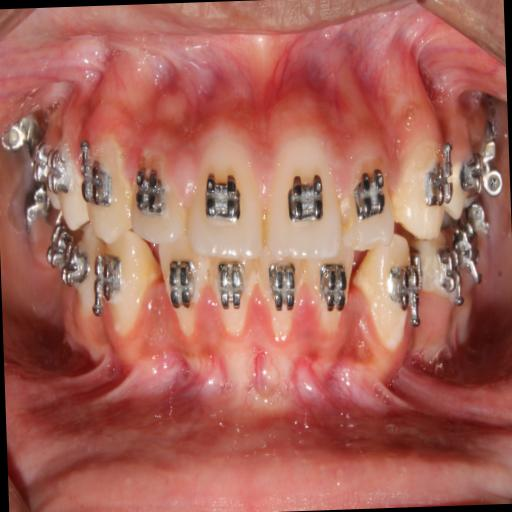correct_brace: (200, 165, 244, 228), (282, 168, 328, 225), (418, 152, 458, 208), (129, 162, 168, 218), (81, 155, 115, 211), (350, 169, 388, 218)
incorrect_brace: (126, 140, 188, 246), (339, 130, 395, 245)
